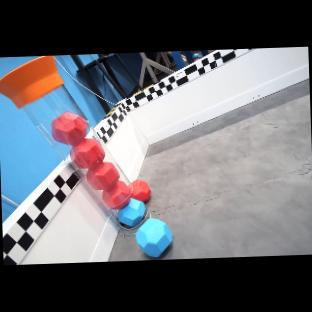V5_BLUE: (136, 219, 172, 258), (118, 198, 146, 227)
V5_RED: (131, 180, 151, 203)
redloader: (52, 112, 132, 210)
